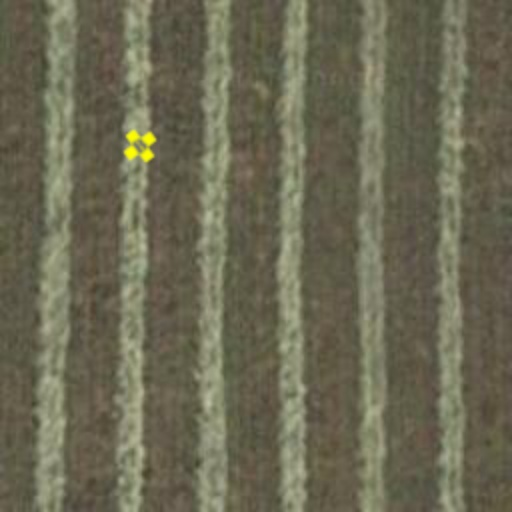cross: (114, 120, 166, 172)
